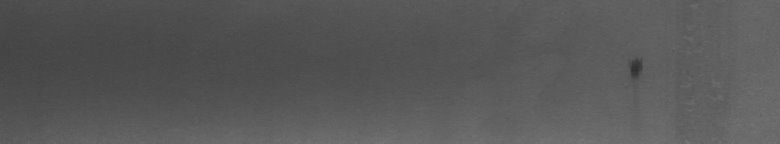fi: (624, 52, 648, 84)
